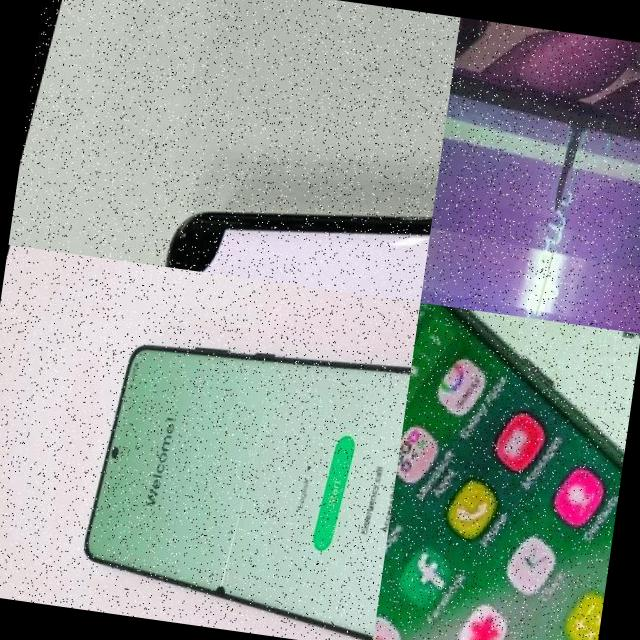dead pixel: (137, 151, 260, 277), (522, 102, 582, 234), (187, 568, 234, 616)
